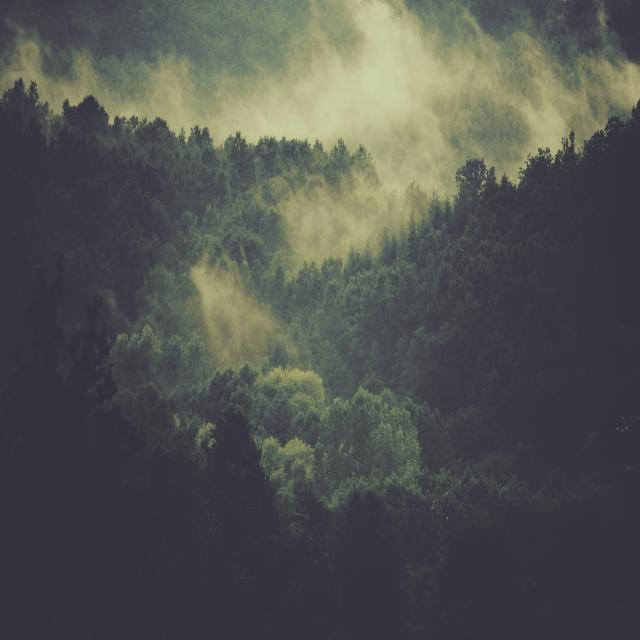Forest: (1, 0, 351, 357), (0, 0, 276, 259), (0, 0, 101, 89)
